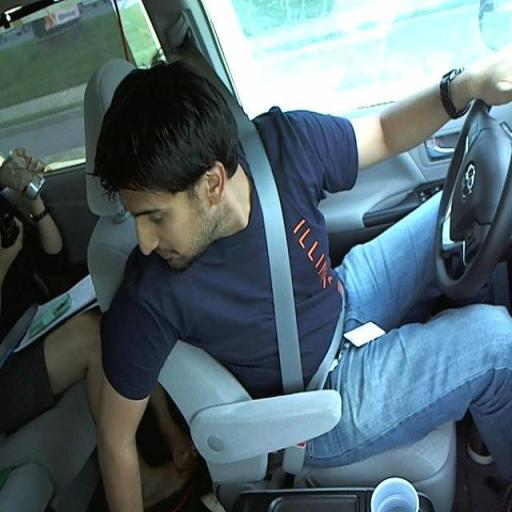turning: (89, 55, 512, 431)
